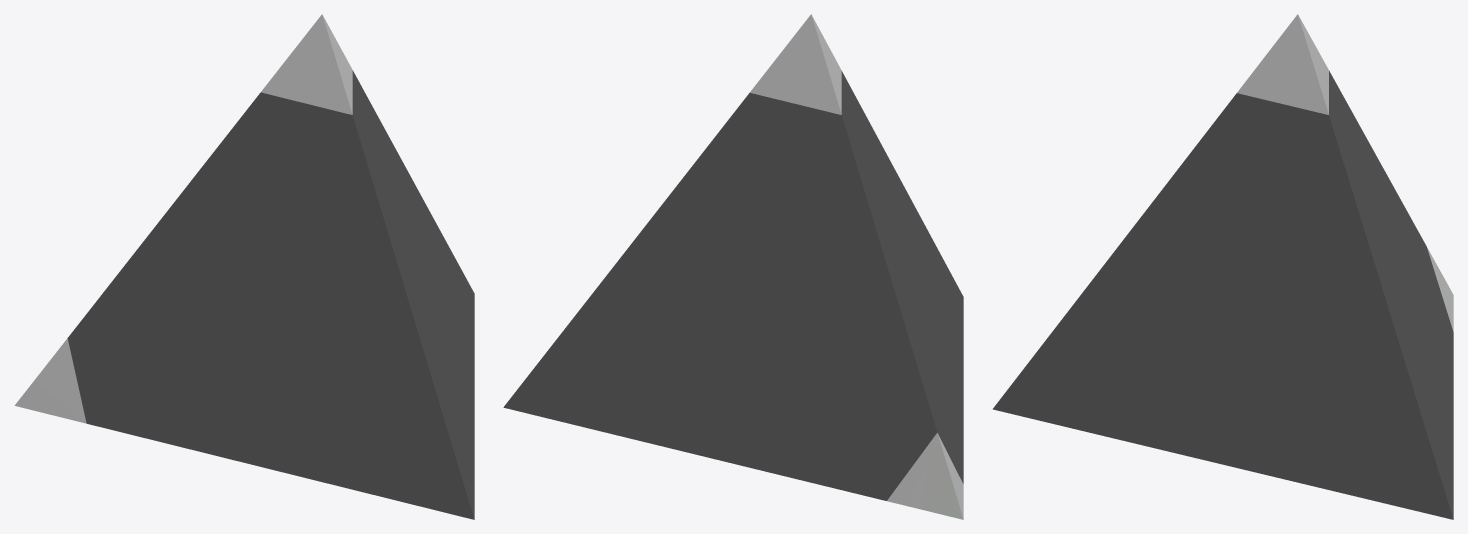
Rendered from Dado.FBX.
3 renders of one model, left to right at view 1: azimuth 30°, elevation 25°; view 2: azimuth 150°, elevation 25°; view 3: azimuth 270°, elevation 25°, orthographic.
Parts seen in each view (by area): view 1: Dado; view 2: Dado; view 3: Dado.
Boxes of the visible parts, x1,y1,x2,y2 form: Dado: [14, 14, 474, 519]; Dado: [503, 14, 963, 519]; Dado: [993, 14, 1453, 519].
Size of the model in its own units: 40.77 by 33.4 by 35.31.
